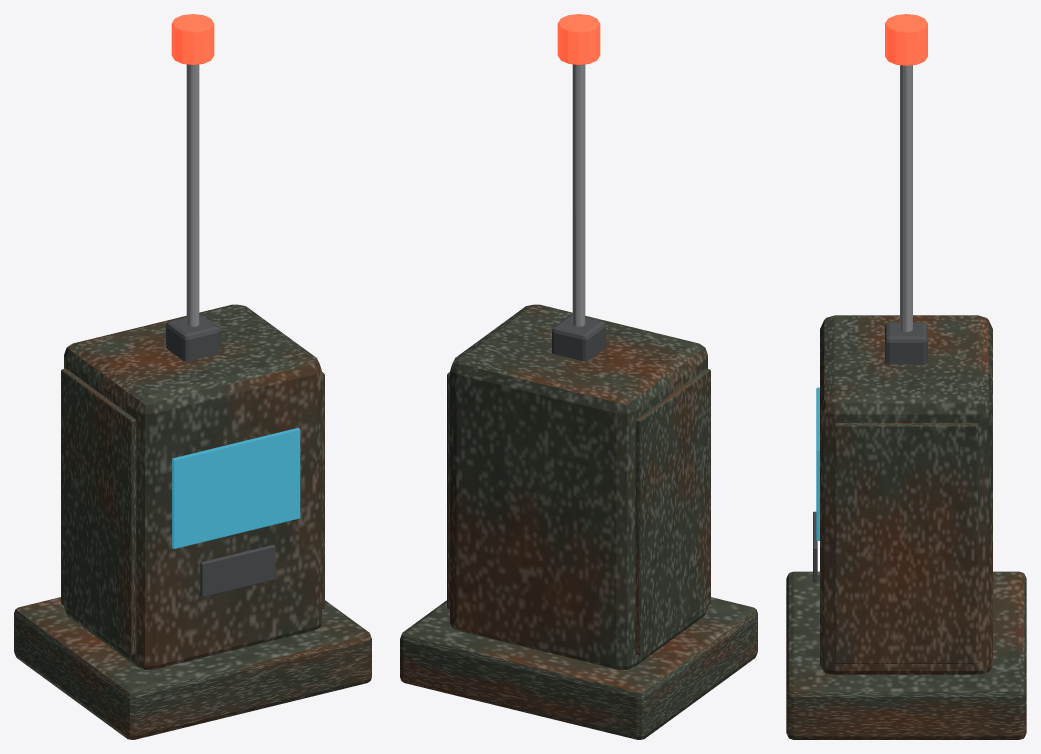
Rendered from mcom.glb.
3 views of the same model, side by side, from view 1: azimuth 30°, elevation 25°; view 2: azimuth 150°, elevation 25°; view 3: azimuth 270°, elevation 25° (orthographic).
Parts seen in each view (by area): view 1: Body.001, Base.001, Panel_-1, Screen, Mast.002, Keypad, Beacon.002, AntennaBase, Panel_1; view 2: Body.001, Base.001, Panel_-1, Mast.002, Beacon.002, AntennaBase, Panel_1; view 3: Panel_1, Body.001, Base.001, Mast.002, Beacon.002, AntennaBase, Screen.
Boxes of the visible parts, left/top/right/bottom form: Body.001: left=64, top=304, right=321, bottom=669; Base.001: left=14, top=597, right=371, bottom=739; Panel_-1: left=61, top=368, right=136, bottom=655; Screen: left=172, top=428, right=300, bottom=548; Mast.002: left=186, top=64, right=199, bottom=326; Keypad: left=200, top=544, right=275, bottom=597; Beacon.002: left=171, top=14, right=214, bottom=64; AntennaBase: left=166, top=314, right=219, bottom=361; Panel_1: left=322, top=372, right=324, bottom=608; Body.001: left=450, top=304, right=707, bottom=669; Base.001: left=400, top=597, right=757, bottom=739; Panel_-1: left=635, top=368, right=710, bottom=655; Mast.002: left=572, top=64, right=585, bottom=326; Beacon.002: left=557, top=14, right=600, bottom=64; AntennaBase: left=552, top=314, right=605, bottom=361; Panel_1: left=447, top=372, right=449, bottom=608; Panel_1: left=834, top=423, right=978, bottom=663; Body.001: left=820, top=315, right=992, bottom=674; Base.001: left=786, top=571, right=1026, bottom=739; Mast.002: left=900, top=65, right=912, bottom=331; Beacon.002: left=885, top=14, right=927, bottom=65; AntennaBase: left=885, top=322, right=927, bottom=364; Screen: left=816, top=387, right=819, bottom=540.
Bounding box in the file's own units: 1.2 × 3.03 × 1.
Materials: 7 (3 with a texture image).
